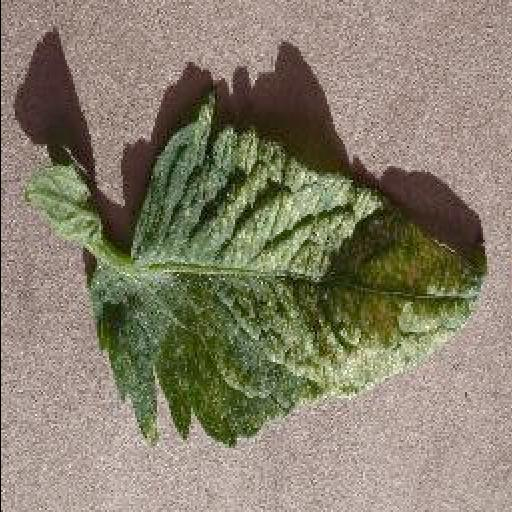disease_tomato: (88, 97, 484, 451)
